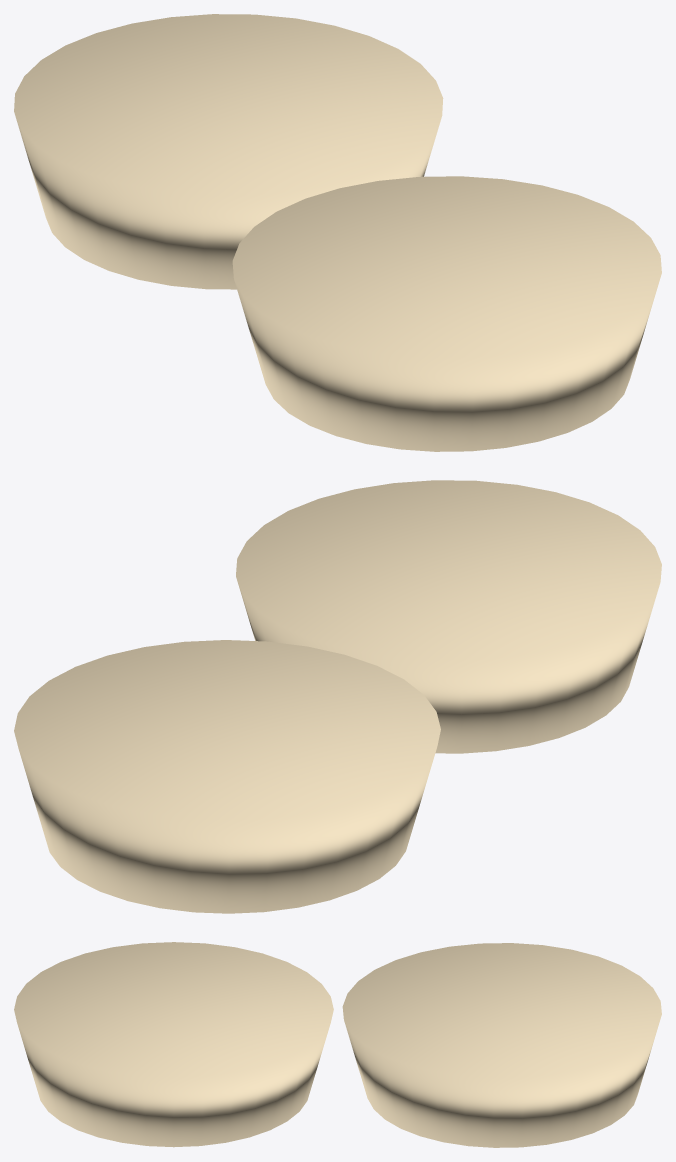
Rendered from overcookedCK.fbx.
The picture shows the model from 3 angles, top to bottom: view 1: azimuth 30°, elevation 25°; view 2: azimuth 150°, elevation 25°; view 3: azimuth 270°, elevation 25°; orthographic projection. The views are drawn at different scales.
Visible parts, largest first — view 1: Cylinder.020, Cylinder.021; view 2: Cylinder.021, Cylinder.020; view 3: Cylinder.021, Cylinder.020.
Boxes of the visible parts, left/top/right/bottom form: Cylinder.020: left=232, top=176, right=661, bottom=451; Cylinder.021: left=14, top=14, right=443, bottom=289; Cylinder.021: left=14, top=640, right=440, bottom=913; Cylinder.020: left=236, top=480, right=661, bottom=753; Cylinder.021: left=342, top=943, right=661, bottom=1147; Cylinder.020: left=14, top=942, right=333, bottom=1147.
Size of the model in its own units: 177 by 48.66 by 357.
